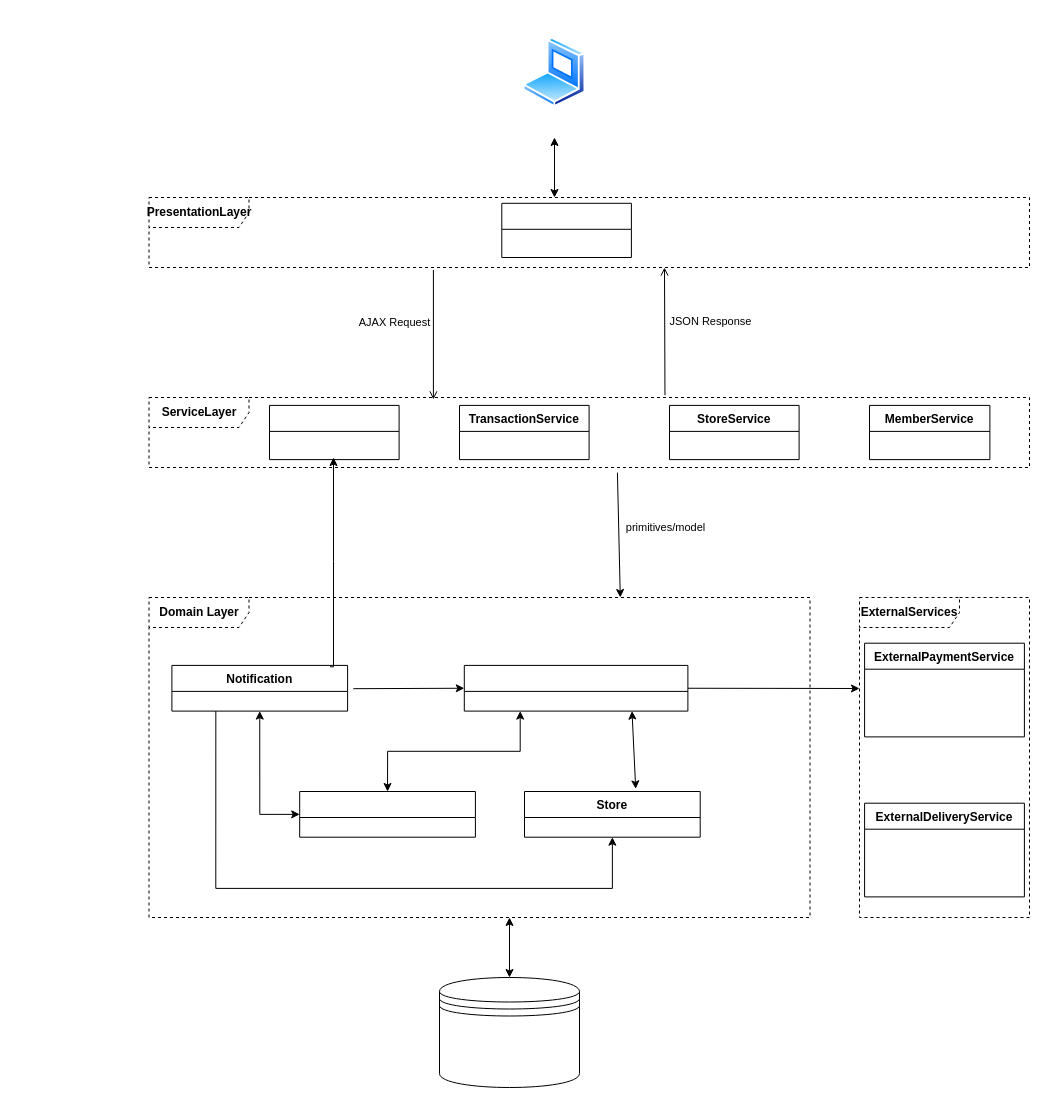
Image size: 1048x1105. Some labels were removed from this diagram. The shapes that lost their labels are listed below. From the top down, each one's centre as x and y in pixels, then its label:
At point (554, 72): "Client".
At point (566, 230): "UIComponents".
At point (333, 432): "NotificationService".
At point (575, 687): "Market".
At point (387, 813): "Member".
At point (509, 1032): "DB".
